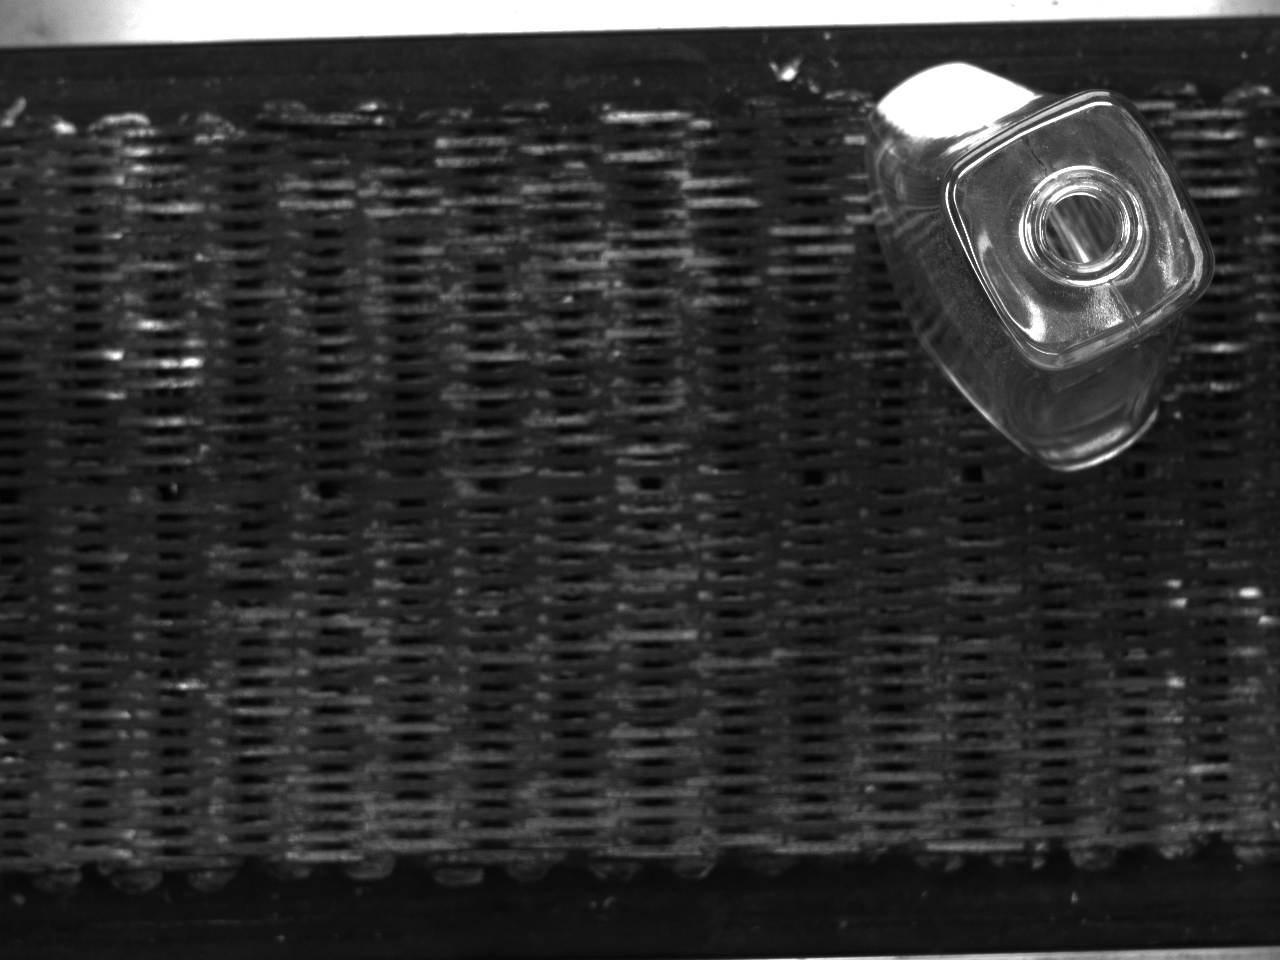bottleneck: (1023, 164, 1147, 284)
